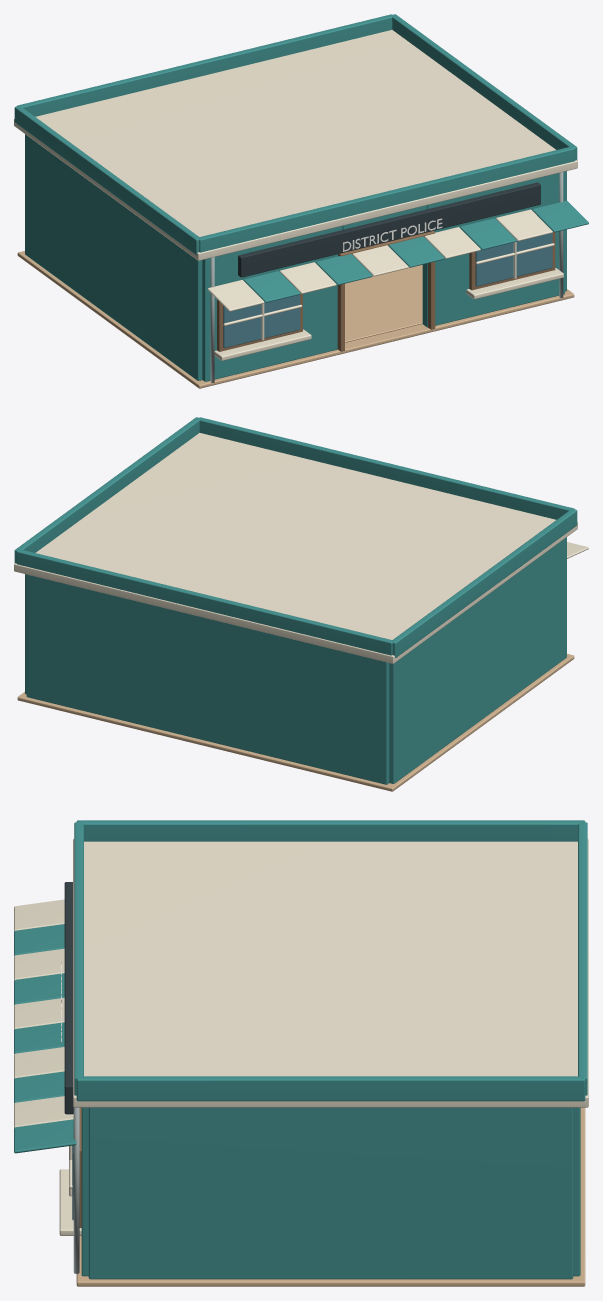
File: police.glb
3 views of the same model, one above another, from view 1: azimuth 30°, elevation 25°; view 2: azimuth 150°, elevation 25°; view 3: azimuth 270°, elevation 25° (orthographic). The views are drawn at different scales.
Visible parts, largest first — view 1: cream, teal, sand, dark, glass, wood, metal, white; view 2: teal, cream, sand; view 3: cream, teal, sand, dark, metal.
Boxes of the visible parts, x1=… form: cream: x1=14, y1=30, x2=577, y2=360; teal: x1=14, y1=14, x2=588, y2=381; sand: x1=17, y1=251, x2=574, y2=388; dark: x1=238, y1=182, x2=540, y2=277; glass: x1=223, y1=233, x2=552, y2=348; wood: x1=217, y1=231, x2=555, y2=351; metal: x1=210, y1=172, x2=563, y2=382; white: x1=343, y1=218, x2=442, y2=251; teal: x1=14, y1=417, x2=577, y2=784; cream: x1=14, y1=433, x2=588, y2=663; sand: x1=17, y1=654, x2=574, y2=791; cream: x1=14, y1=839, x2=588, y2=1235; teal: x1=14, y1=820, x2=587, y2=1279; sand: x1=76, y1=1107, x2=585, y2=1286; dark: x1=64, y1=882, x2=73, y2=1114; metal: x1=73, y1=1107, x2=79, y2=1273.
Size of the model in its own units: 12.7 by 4.77 by 11.87.
